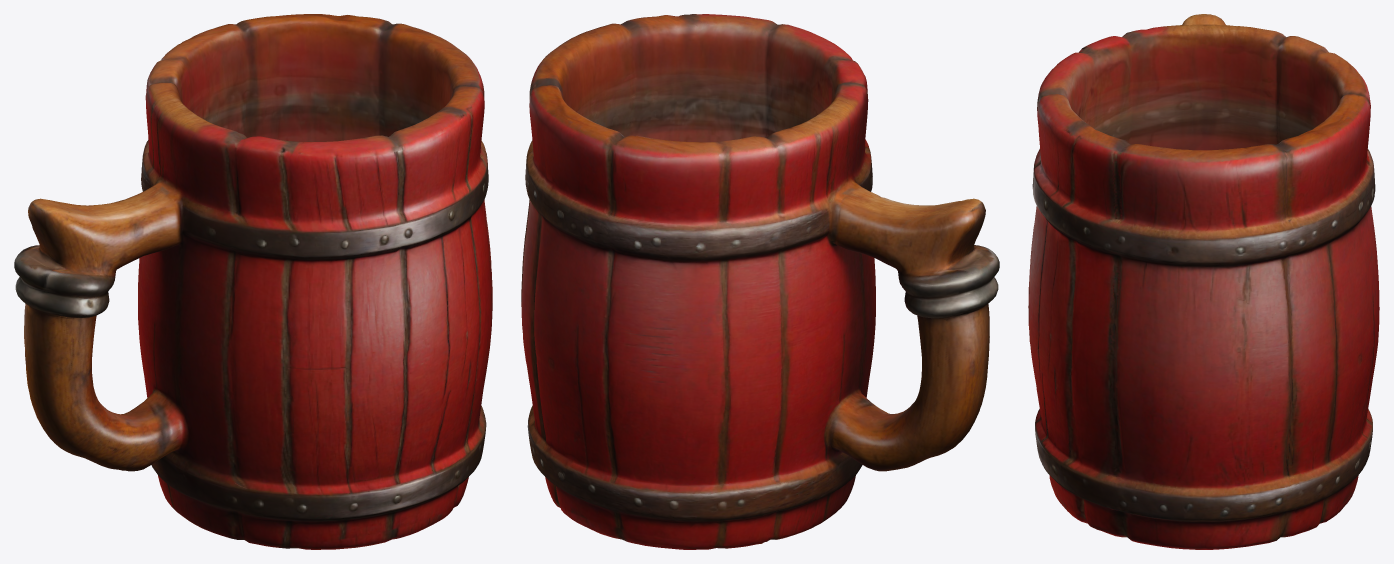
The model's file is refined_model.glb.
The picture shows the model from 3 angles, left to right: view 1: azimuth 30°, elevation 25°; view 2: azimuth 150°, elevation 25°; view 3: azimuth 270°, elevation 25°; orthographic projection.
Size of the model in its own units: 2 by 1.74 by 1.38.
1 material, 1 textured.
